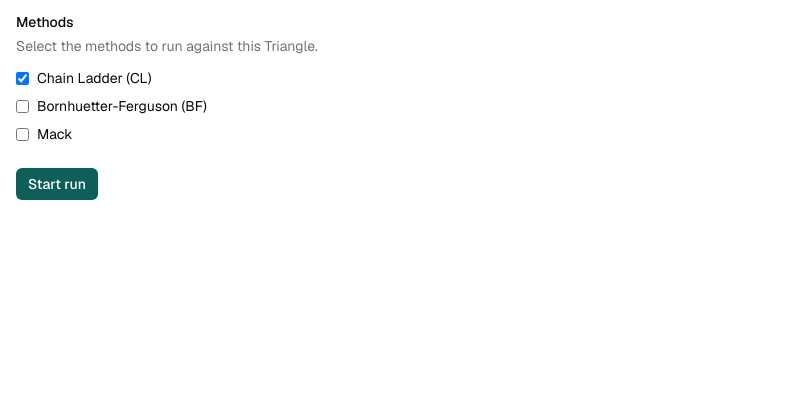
Test: RunConfig gating (AC1) › BF selected with an empty premium → Start disabled until every origin has both
Click the checkbox labelled "Bornhuetter-Ferguson (BF)" at (22, 106), box [16, 100, 29, 112]
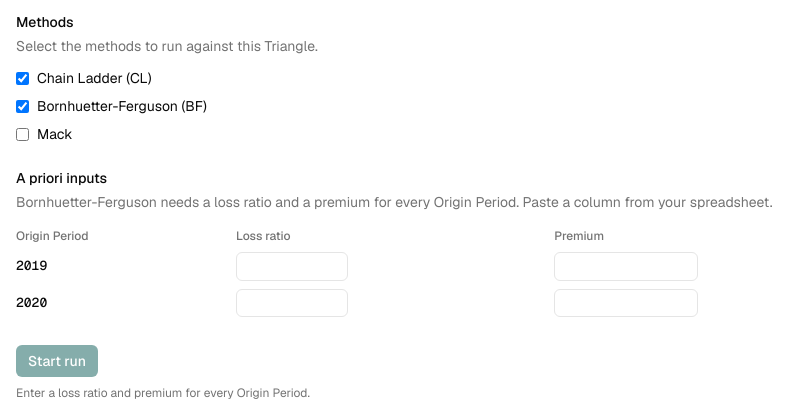
expect the button "Start run" is disabled: met, box [16, 345, 98, 377]
expect the field named "Loss ratio for 2019" is shown: met
Type "0.7" into the field named "Loss ratio for 2019" at (292, 266), box [236, 252, 348, 281]
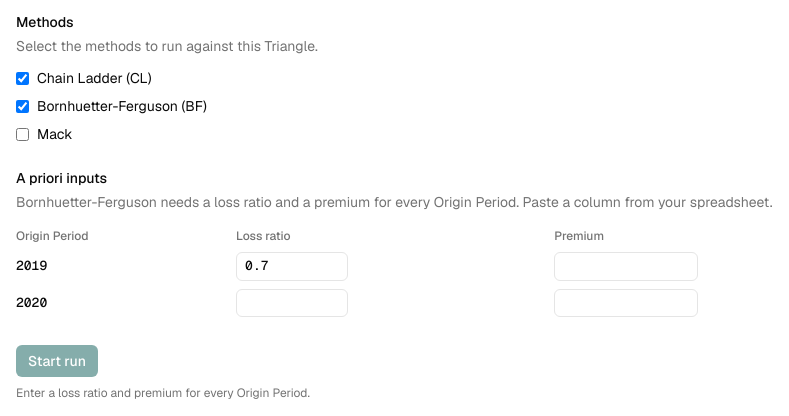
Type "5000000" into the field named "Premium for 2019" at (626, 266), box [554, 252, 698, 281]
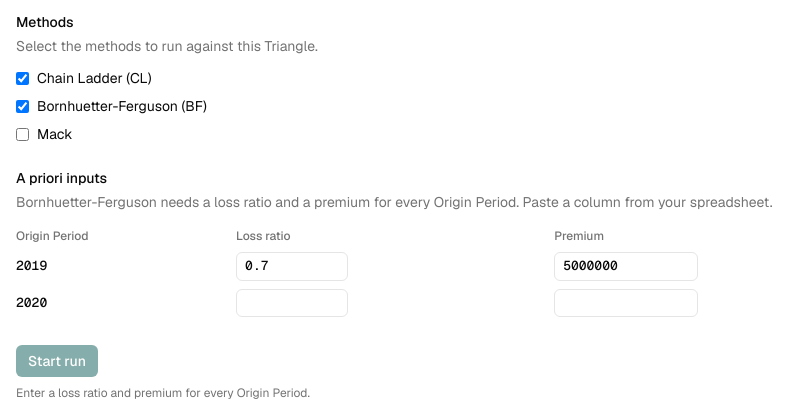
Type "0.72" into the field named "Loss ratio for 2020" at (292, 303), box [236, 289, 348, 317]
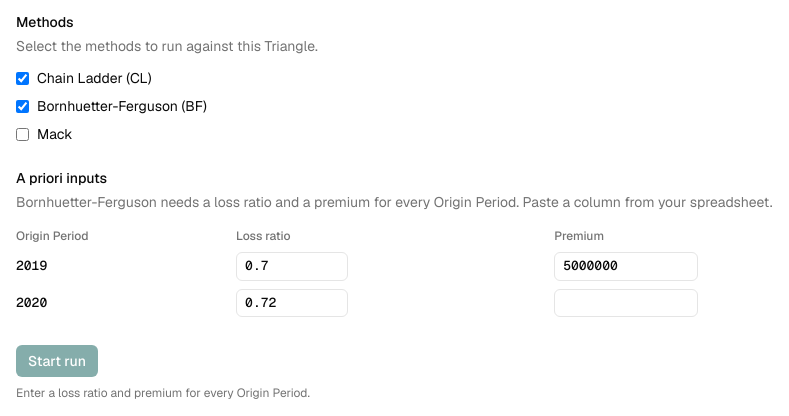
expect the button "Start run" is disabled: met, box [16, 345, 98, 377]
Type "5200000" into the field named "Premium for 2020" at (626, 303), box [554, 289, 698, 317]
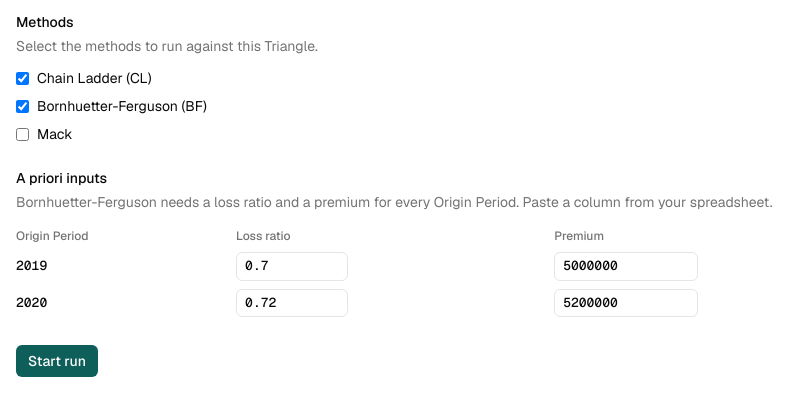
expect the button "Start run" is enabled: met, box [16, 345, 98, 377]
